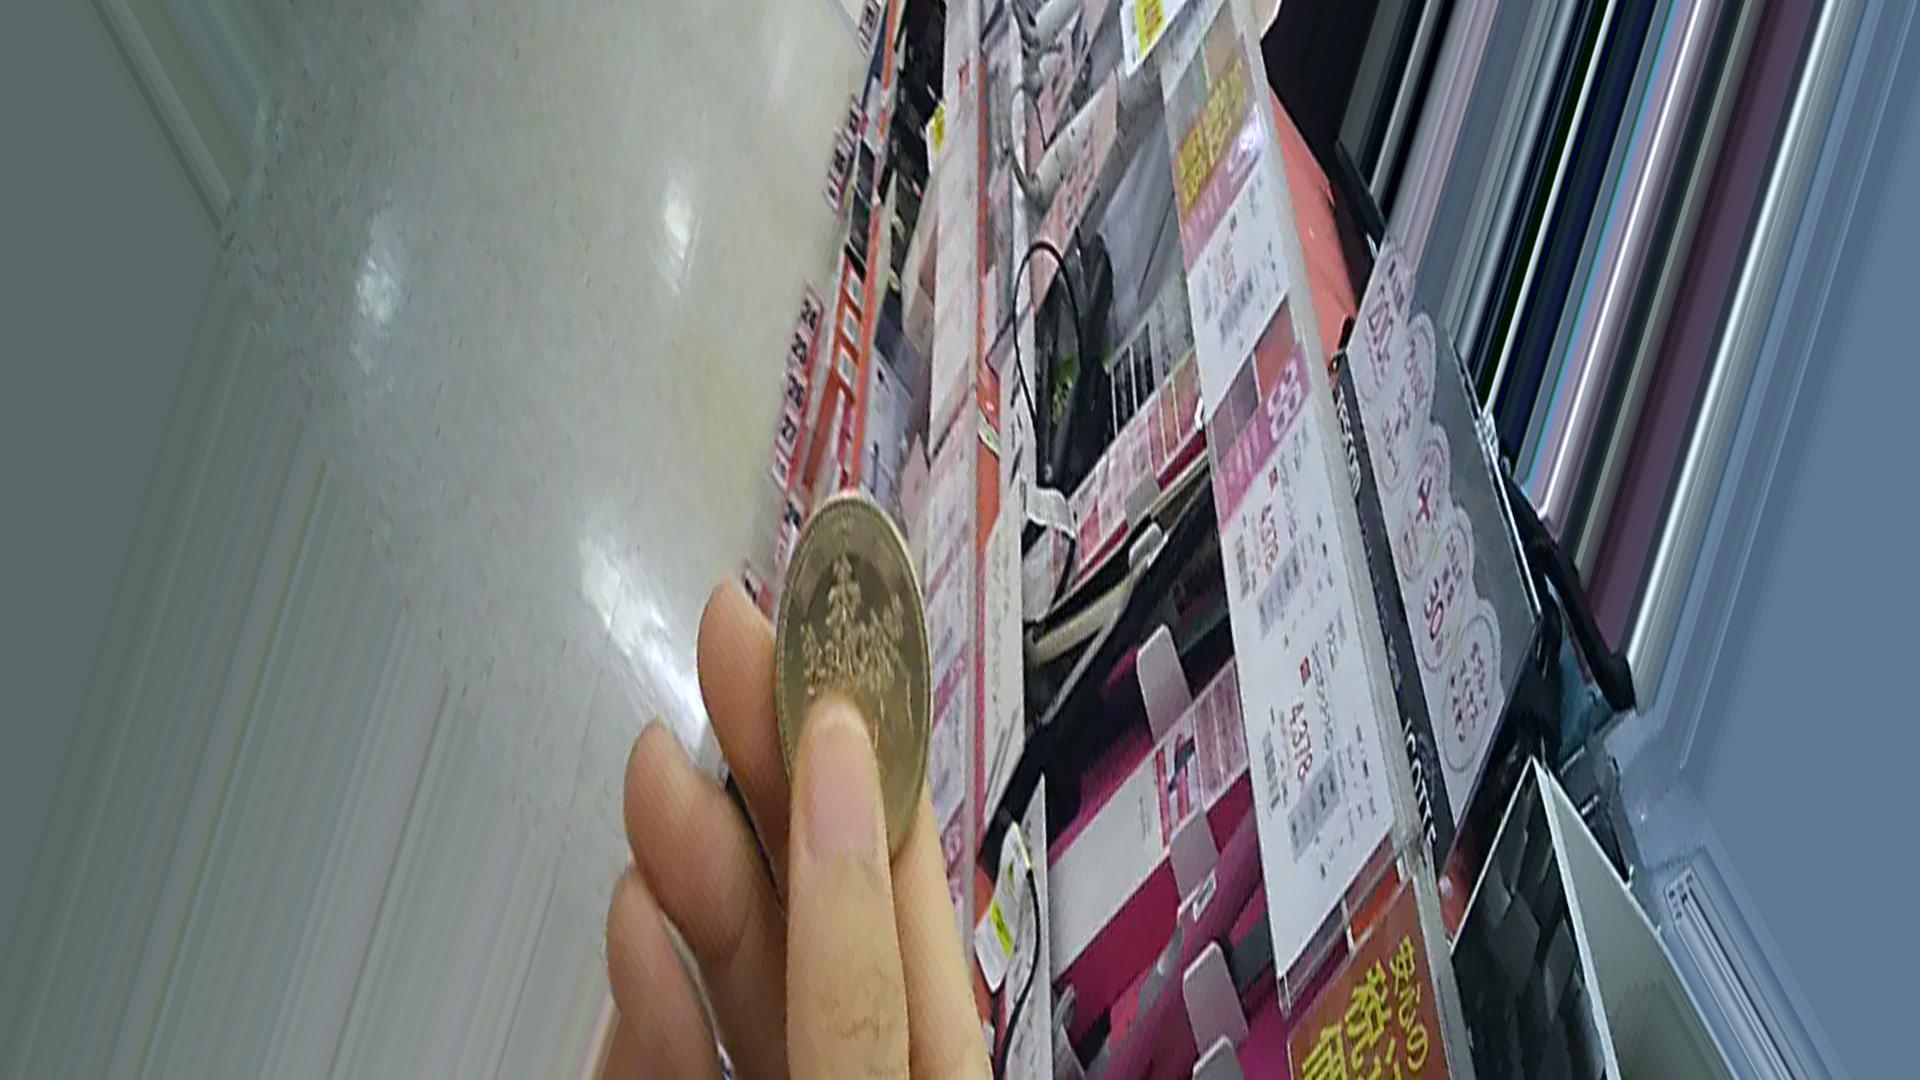500 Yen: (771, 502, 932, 851)
